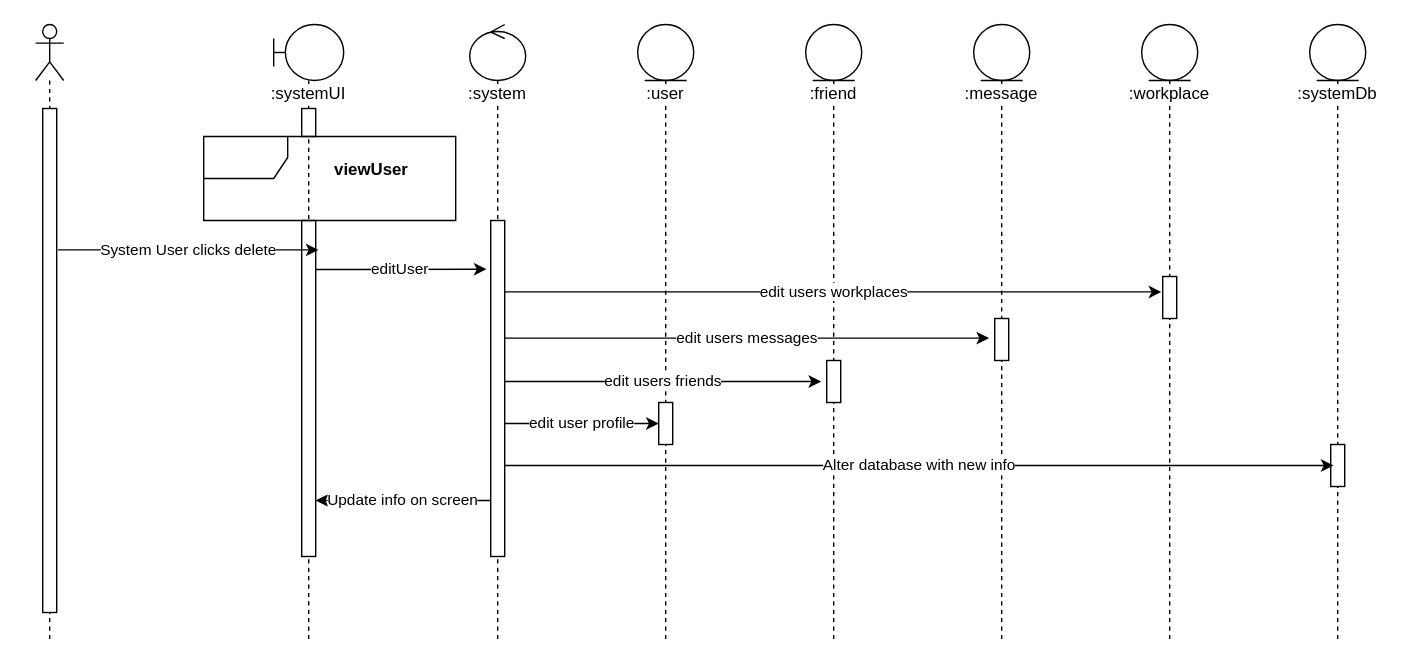
Some shapes in this 1401 by 665 pixel diagram are drawn without their labels. The box of each missing label's shape, as (x1, y1, x2, y2) in pixels:
:admin: (34, 23, 64, 640)
ref: (202, 135, 456, 220)
